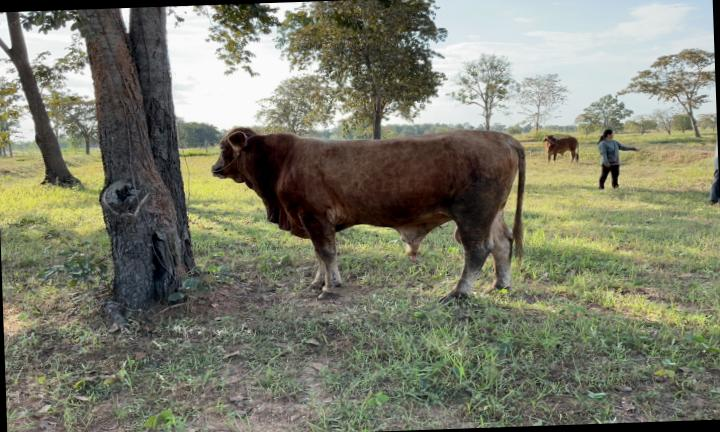Charolais: (212, 128, 525, 300), (400, 178, 404, 180)
